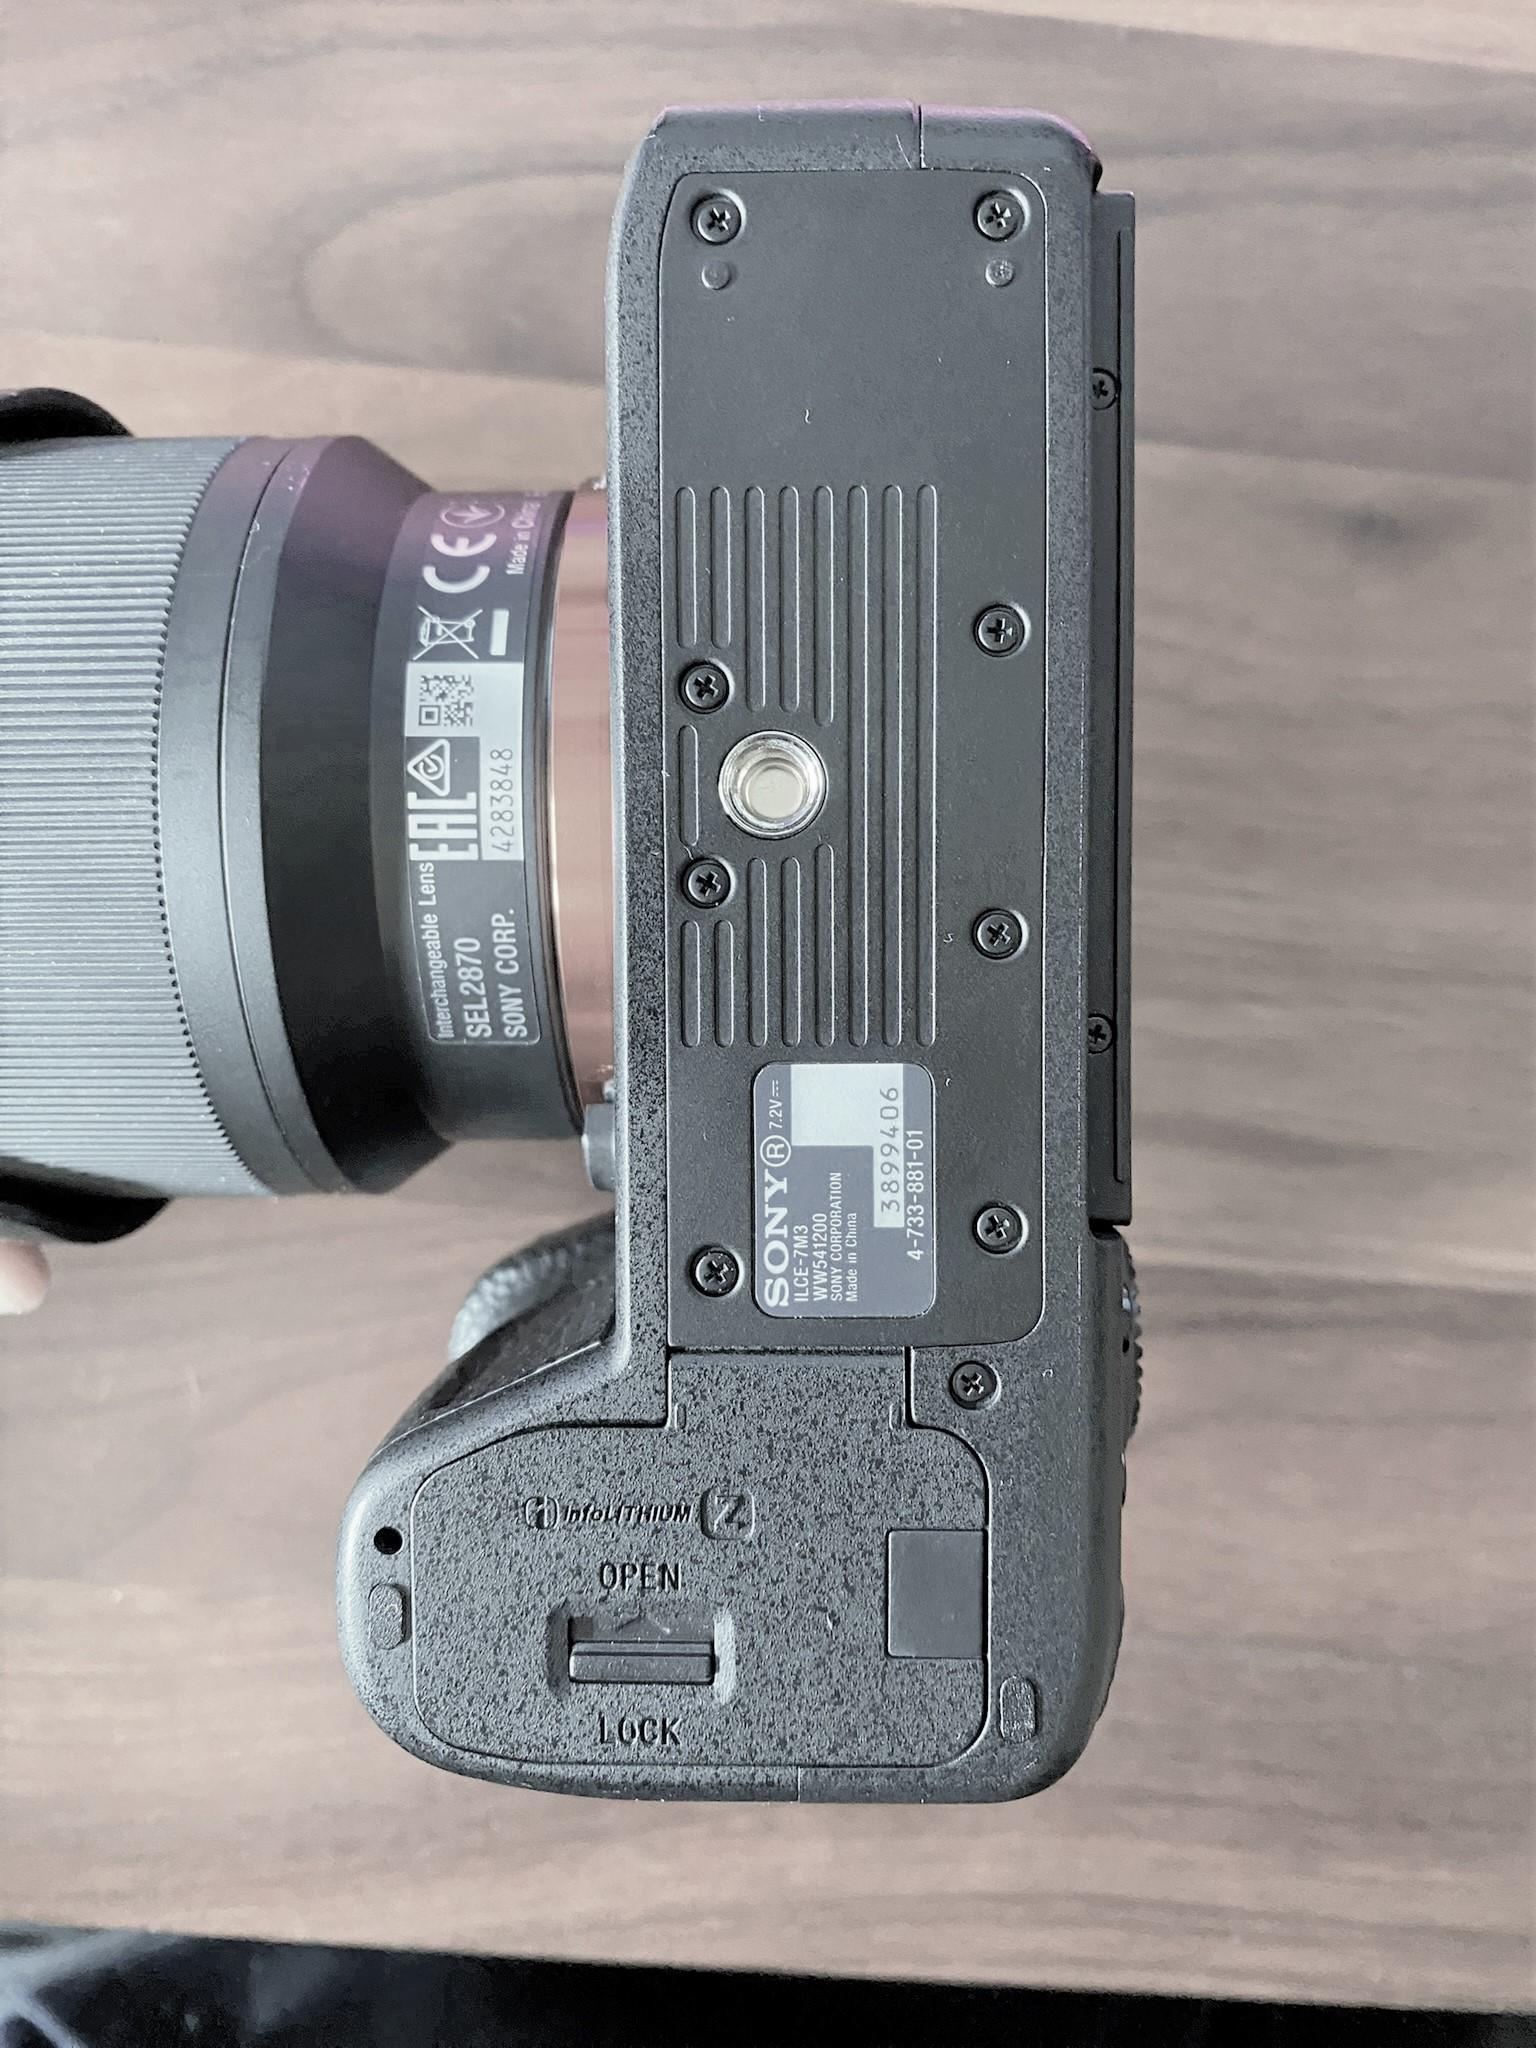PH: (975, 606, 1028, 660), (968, 1201, 1025, 1251), (691, 192, 741, 247), (971, 192, 1025, 240), (975, 910, 1025, 959), (679, 663, 728, 714), (684, 858, 733, 910), (692, 1247, 741, 1298), (949, 1359, 994, 1409), (1091, 364, 1118, 418), (1083, 1013, 1113, 1059)
